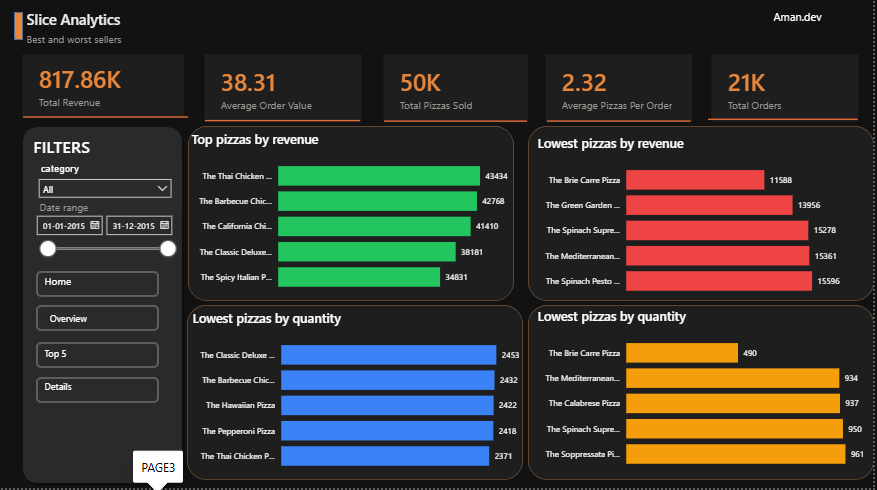

The page's visual inventory and layout, read from the dashboard file:
{"tool":"powerbi","page":{"name":"PAGE3","canvas":[1280,720],"ordinal":2},"visuals":[{"type":"shape","box":[3.4,15.1,324.2,90.7],"z":0},{"type":"shape","box":[22,23.4,13.2,41],"z":1000},{"type":"textbox","box":[35.3,15.1,275.5,65.5],"z":2000},{"type":"textbox","box":[35.1,48.3,166.8,32.2],"z":3000},{"type":"cardVisual","fields":{"Data":["Calendar.Total Revenue"]},"box":[29.3,80.5,246.9,102.5],"z":4000},{"type":"cardVisual","fields":{"Data":["Calendar.Average Order Value"]},"box":[295.6,80.5,240.2,109.2],"z":5000},{"type":"cardVisual","fields":{"Data":["Calendar.Total Pizzas Sold"]},"box":[557.6,80.5,222,109.9],"z":6000},{"type":"cardVisual","fields":{"Data":["Calendar.Total Orders"]},"box":[1037.6,80.5,225.1,109.2],"z":7000},{"type":"cardVisual","fields":{"Data":["Calendar.Average Pizzas Per Order"]},"box":[794.6,80.5,225.1,109.2],"z":8000},{"type":"shape","box":[35.1,169.8,241.6,14.8],"z":9000},{"type":"shape","box":[1037.6,171.2,219.5,18.4],"z":10000},{"type":"shape","box":[802,175.6,210.3,14.8],"z":11000},{"type":"shape","box":[301.5,174.1,227.2,16.3],"z":12000},{"type":"shape","box":[27.8,184.4,247.3,535.6],"z":13000},{"type":"textbox","box":[45.4,199,120.3,41.6],"z":14000},{"type":"slicer","fields":{"Values":["Pizza Sales.category"]},"box":[48.3,240,213.7,71.7],"z":15000},{"type":"shape","box":[563.4,169.8,209.4,26.7],"z":16000},{"type":"textbox","box":[54.1,294.1,120,35.1],"z":17000},{"type":"slicer","fields":{"Values":["Calendar.Date"]},"box":[42.4,311.7,225.4,90.7],"z":18000},{"type":"shape","box":[275.1,452.2,491.7,256.1],"z":19000},{"type":"shape","box":[276.6,190.2,477.1,256.1],"z":20000},{"type":"shape","box":[774.1,452.2,506.3,256.1],"z":21000},{"type":"shape","box":[774.1,190.2,506.3,256.1],"z":22000},{"type":"textbox","box":[1128.3,14.6,143.4,49.8],"z":23000},{"type":"clusteredBarChart","title":"Top pizzas by revenue","fields":{"Category":["Pizza Sales.name"],"Y":["Calendar.Total Revenue"]},"box":[276.6,196.1,477.1,250.2],"z":24000},{"type":"clusteredBarChart","title":"Lowest pizzas by revenue","fields":{"Category":["Pizza Sales.name"],"Y":["Calendar.Total Revenue"]},"box":[782.9,202,488.8,250.2],"z":25000},{"type":"clusteredBarChart","title":"Lowest pizzas by quantity","fields":{"Category":["Pizza Sales.name"],"Y":["Calendar.Total Quantity"]},"box":[278,458,488.8,250.2],"z":26000},{"type":"clusteredBarChart","title":"Lowest pizzas by quantity","fields":{"Category":["Pizza Sales.name"],"Y":["Calendar.Total Quantity"]},"box":[782.9,455.1,488.8,250.2],"z":27000},{"type":"textbox","box":[61.5,458,83.4,32.2],"z":28000},{"type":"actionButton","title":"HOME","box":[54.1,452.2,180,38],"z":29000},{"type":"actionButton","title":"HOME","box":[54.1,506.3,180,38],"z":30000},{"type":"actionButton","title":"HOME","box":[54.1,557.6,180,38],"z":31000},{"type":"textbox","box":[61.5,509.3,95.1,32.2],"z":32000},{"type":"textbox","box":[61.5,557.6,68.8,32.2],"z":33000},{"type":"actionButton","title":"HOME","box":[54.1,402.4,180,38],"z":34000},{"type":"textbox","box":[61.5,402.4,52.7,32.2],"z":35000}]}

Visuals, with their boxes in screenshot pixels (x1, y1, x2, y2), scaled from the page's 1280x720 canvas onto the 877x490 screenshot:
shape: {"x1": 2, "y1": 10, "x2": 224, "y2": 72}
shape: {"x1": 15, "y1": 16, "x2": 24, "y2": 44}
textbox: {"x1": 24, "y1": 10, "x2": 213, "y2": 55}
textbox: {"x1": 24, "y1": 33, "x2": 138, "y2": 55}
cardVisual - Calendar.Total Revenue: {"x1": 20, "y1": 55, "x2": 189, "y2": 125}
cardVisual - Calendar.Average Order Value: {"x1": 203, "y1": 55, "x2": 367, "y2": 129}
cardVisual - Calendar.Total Pizzas Sold: {"x1": 382, "y1": 55, "x2": 534, "y2": 130}
cardVisual - Calendar.Total Orders: {"x1": 711, "y1": 55, "x2": 865, "y2": 129}
cardVisual - Calendar.Average Pizzas Per Order: {"x1": 544, "y1": 55, "x2": 699, "y2": 129}
shape: {"x1": 24, "y1": 116, "x2": 190, "y2": 126}
shape: {"x1": 711, "y1": 117, "x2": 861, "y2": 129}
shape: {"x1": 549, "y1": 120, "x2": 694, "y2": 130}
shape: {"x1": 207, "y1": 118, "x2": 362, "y2": 130}
shape: {"x1": 19, "y1": 125, "x2": 188, "y2": 489}
textbox: {"x1": 31, "y1": 135, "x2": 114, "y2": 164}
slicer - Pizza Sales.category: {"x1": 33, "y1": 163, "x2": 180, "y2": 212}
shape: {"x1": 386, "y1": 116, "x2": 529, "y2": 134}
textbox: {"x1": 37, "y1": 200, "x2": 119, "y2": 224}
slicer - Calendar.Date: {"x1": 29, "y1": 212, "x2": 183, "y2": 274}
shape: {"x1": 188, "y1": 308, "x2": 525, "y2": 482}
shape: {"x1": 190, "y1": 129, "x2": 516, "y2": 304}
shape: {"x1": 530, "y1": 308, "x2": 876, "y2": 482}
shape: {"x1": 530, "y1": 129, "x2": 876, "y2": 304}
textbox: {"x1": 773, "y1": 10, "x2": 871, "y2": 44}
"Top pizzas by revenue" clusteredBarChart: {"x1": 190, "y1": 133, "x2": 516, "y2": 304}
"Lowest pizzas by revenue" clusteredBarChart: {"x1": 536, "y1": 137, "x2": 871, "y2": 308}
"Lowest pizzas by quantity" clusteredBarChart: {"x1": 190, "y1": 312, "x2": 525, "y2": 482}
"Lowest pizzas by quantity" clusteredBarChart: {"x1": 536, "y1": 310, "x2": 871, "y2": 480}
textbox: {"x1": 42, "y1": 312, "x2": 99, "y2": 334}
"HOME" actionButton: {"x1": 37, "y1": 308, "x2": 160, "y2": 334}
"HOME" actionButton: {"x1": 37, "y1": 345, "x2": 160, "y2": 370}
"HOME" actionButton: {"x1": 37, "y1": 379, "x2": 160, "y2": 405}
textbox: {"x1": 42, "y1": 347, "x2": 107, "y2": 369}
textbox: {"x1": 42, "y1": 379, "x2": 89, "y2": 401}
"HOME" actionButton: {"x1": 37, "y1": 274, "x2": 160, "y2": 300}
textbox: {"x1": 42, "y1": 274, "x2": 78, "y2": 296}
